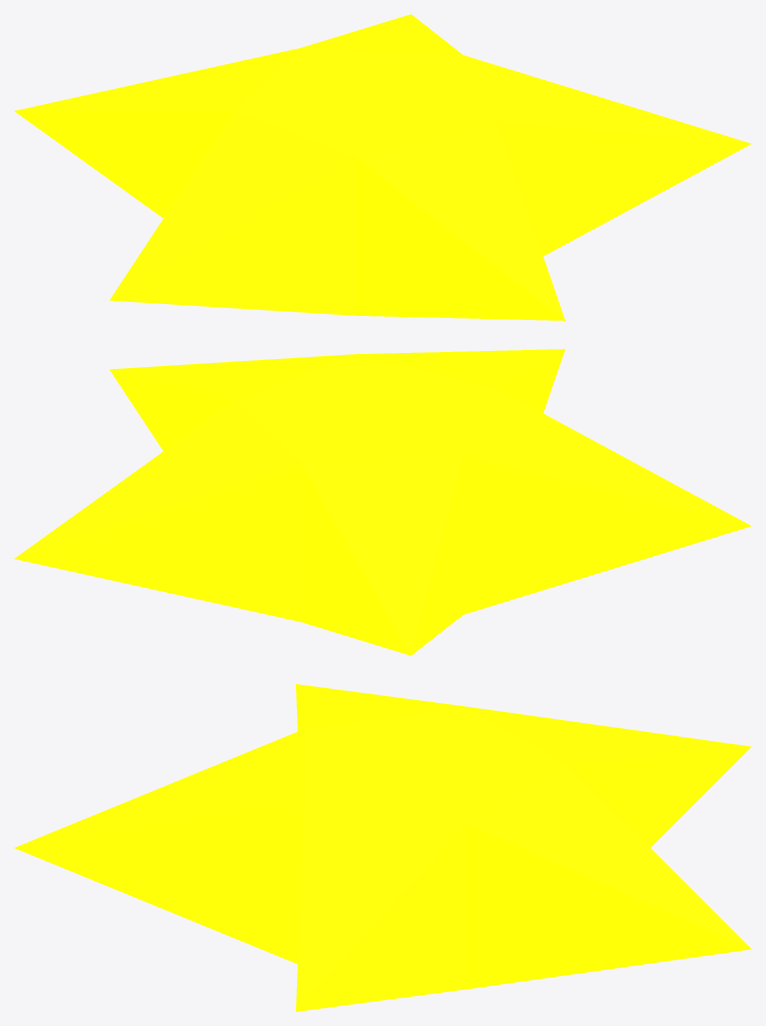
The model's file is star.glb.
The picture shows the model from 3 angles, top to bottom: view 1: azimuth 30°, elevation 25°; view 2: azimuth 150°, elevation 25°; view 3: azimuth 270°, elevation 25°; orthographic projection. The views are drawn at different scales.
Parts seen in each view (by area): view 1: Cylinder; view 2: Cylinder; view 3: Cylinder.
Boxes of the visible parts, x1,y1,x2,y2 form: Cylinder: [14, 14, 751, 320]; Cylinder: [14, 349, 751, 655]; Cylinder: [14, 684, 751, 1011].
Bounding box in the file's own units: 5.34 × 1.26 × 5.08.
